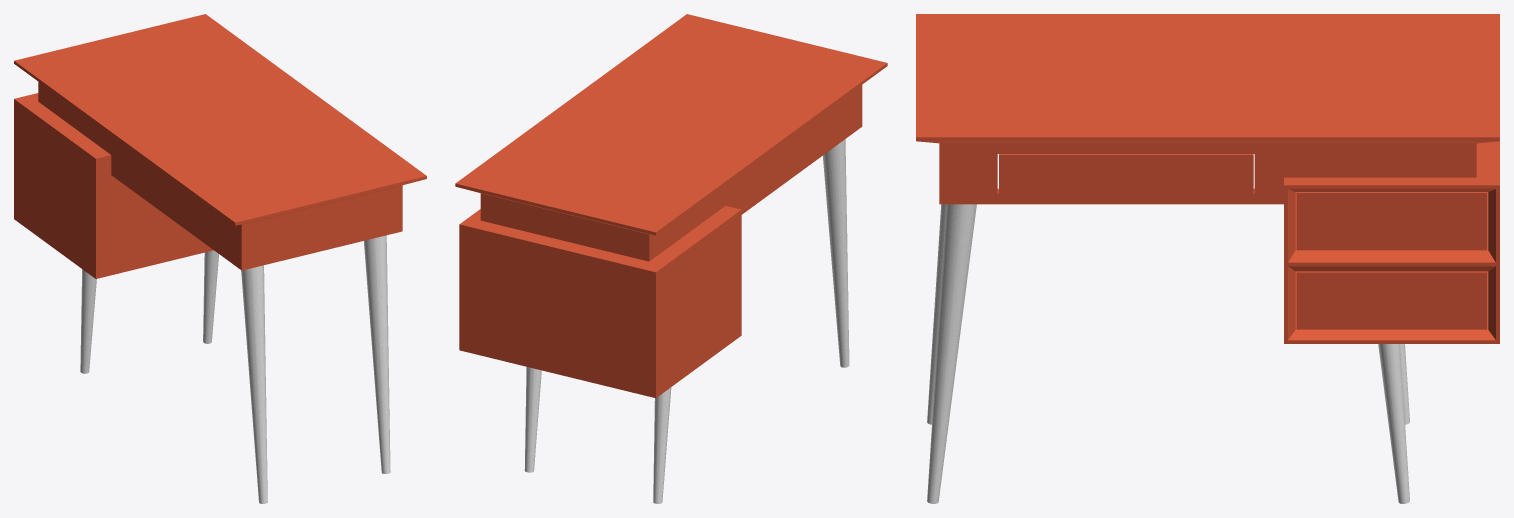
The model's file is desk.gltf.
3 views of the same model, side by side, from view 1: azimuth 30°, elevation 25°; view 2: azimuth 150°, elevation 25°; view 3: azimuth 270°, elevation 25° (orthographic). The views are drawn at different scales.
Parts seen in each view (by area): view 1: group_14; view 2: group_14; view 3: group_14.
Boxes of the visible parts, box(x1,y1,x2,y2) form: group_14: box(14, 14, 426, 503); group_14: box(455, 14, 887, 503); group_14: box(916, 14, 1499, 503).
Bounding box in the file's own units: 0.5 × 0.7308 × 1.
